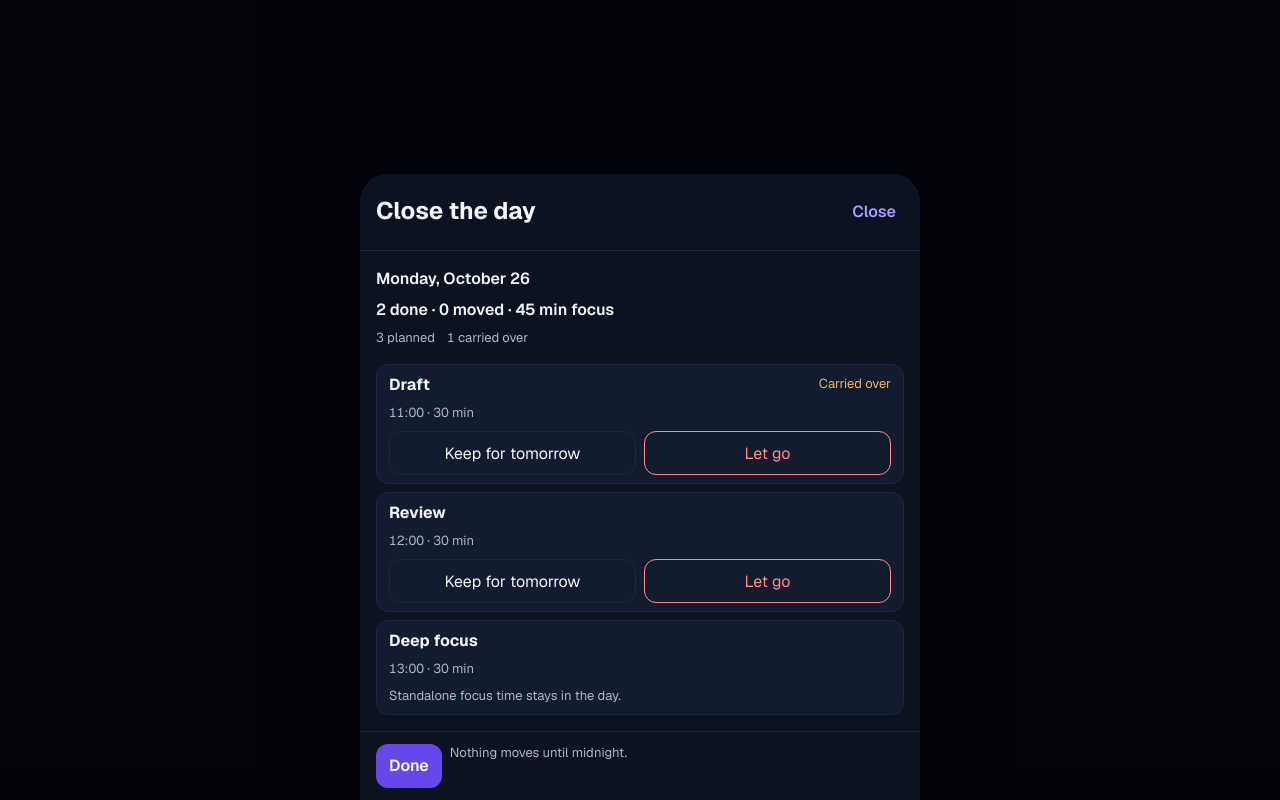
Test case: shows the quiet summary and updates the moved count after a keep
Expected: the text "2 done · 0 moved · 45 min focus" is shown, x1=376 y1=299 x2=614 y2=320
Expected: the text "3 planned" is shown, x1=376 y1=329 x2=435 y2=348
Click the button "Keep for tomorrow" below "11:00 · 30 min" at (512, 453), box x1=389 y1=431 x2=636 y2=475
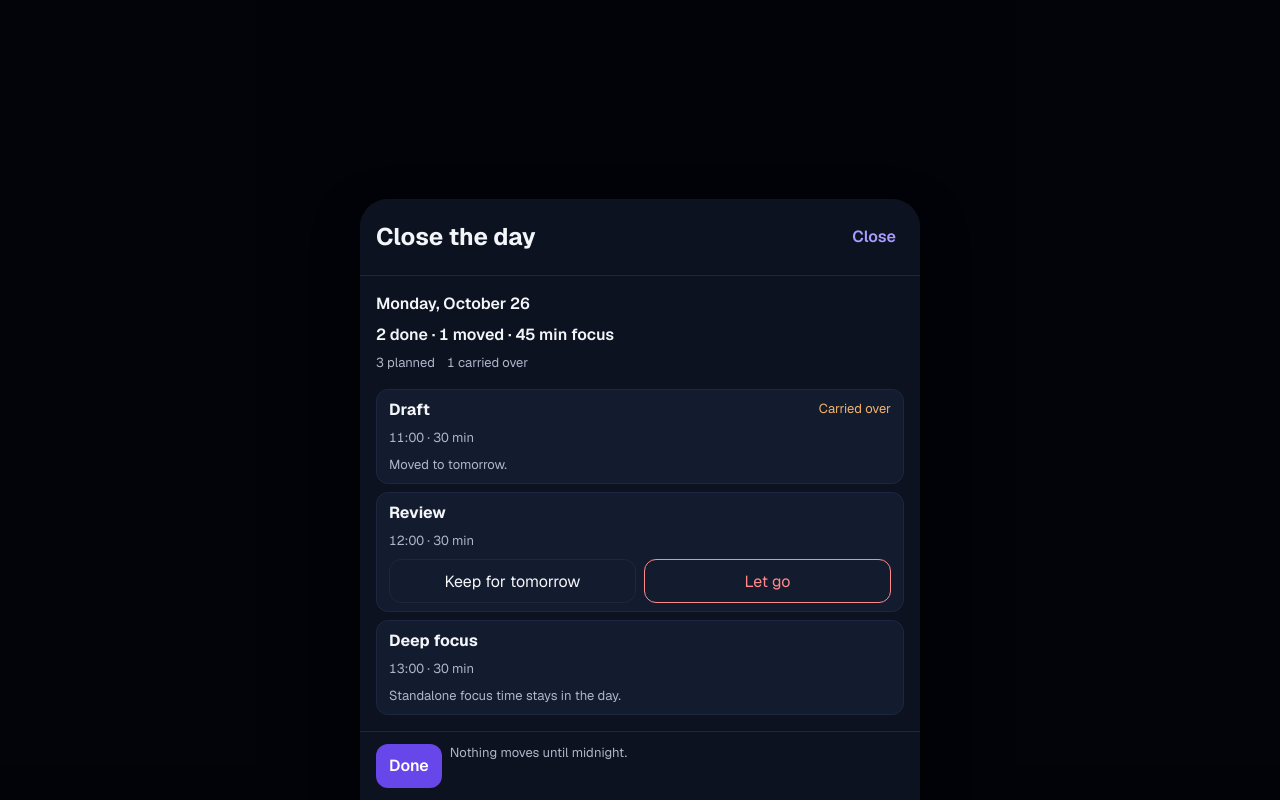
Now the text "2 done · 1 moved · 45 min focus" is shown, box x1=376 y1=324 x2=614 y2=345
Now the text "Moved to tomorrow." is shown, box x1=389 y1=456 x2=507 y2=473
